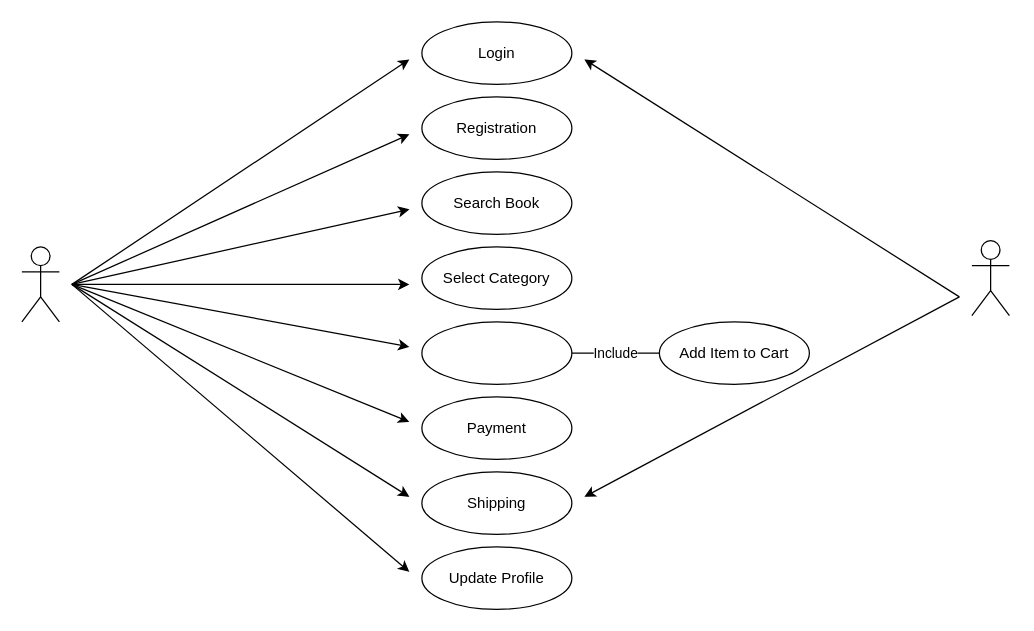
Some shapes in this 1034 by 631 pixel diagram are drawn without their labels. The shapes that lost their labels are listed below. From the top down, each one's centre as x and y in pixels, then its label:
At point 40,284: "User".
At point 990,277: "Admin".
At point 496,352: "Place Order".
